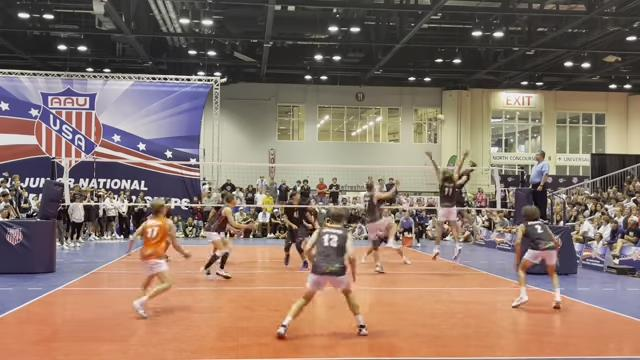Attack: (453, 158, 477, 244)
Block: (422, 150, 471, 268)
Player: (277, 208, 367, 338), (128, 200, 190, 317), (512, 206, 561, 308), (362, 180, 410, 272), (202, 193, 253, 278), (283, 192, 316, 269)
ball: (435, 114, 445, 124)
